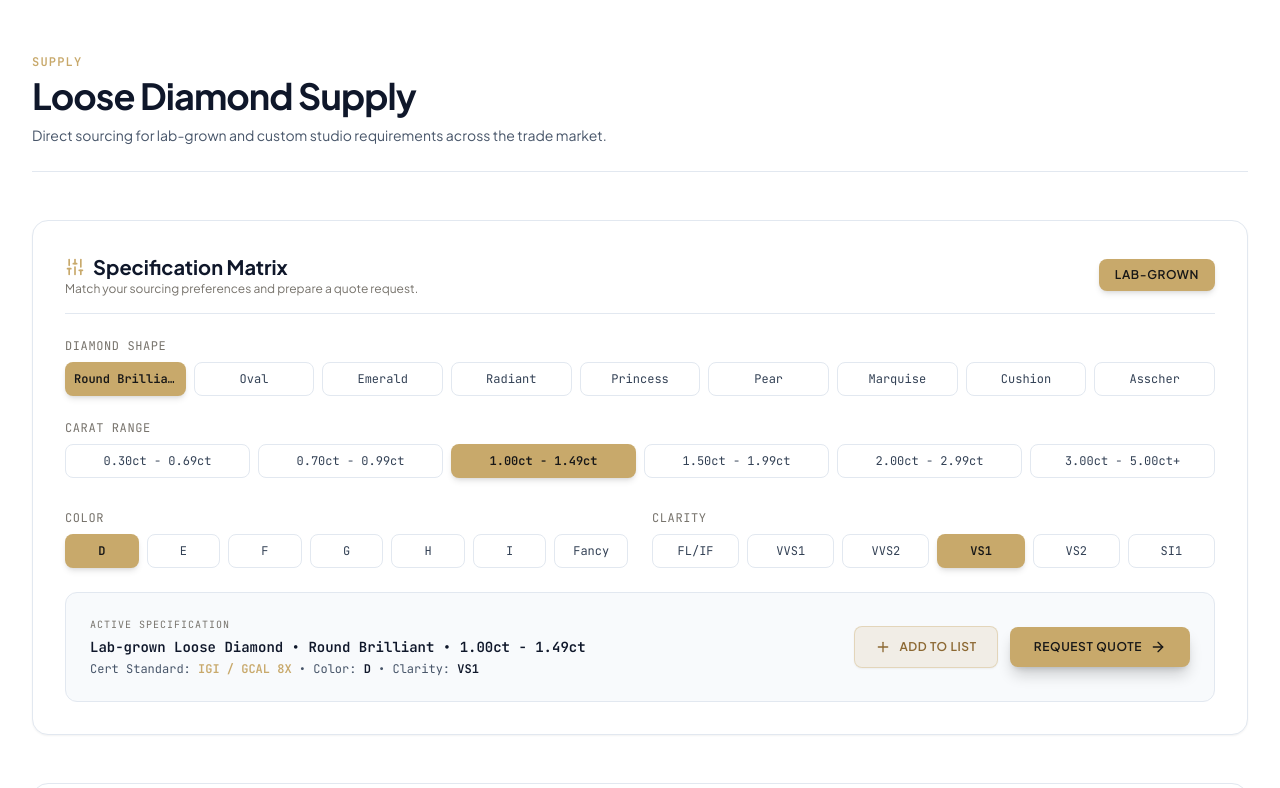
Test case: Loose Diamond Supply Matrix Component › should support adding multiple specifications and removing an item from the list
This screenshot has width=1280, height=788.
// Add 1st specification (Round D VS1)
Click the button "Add to list".
click(926, 647)  # box [854,626,998,668]
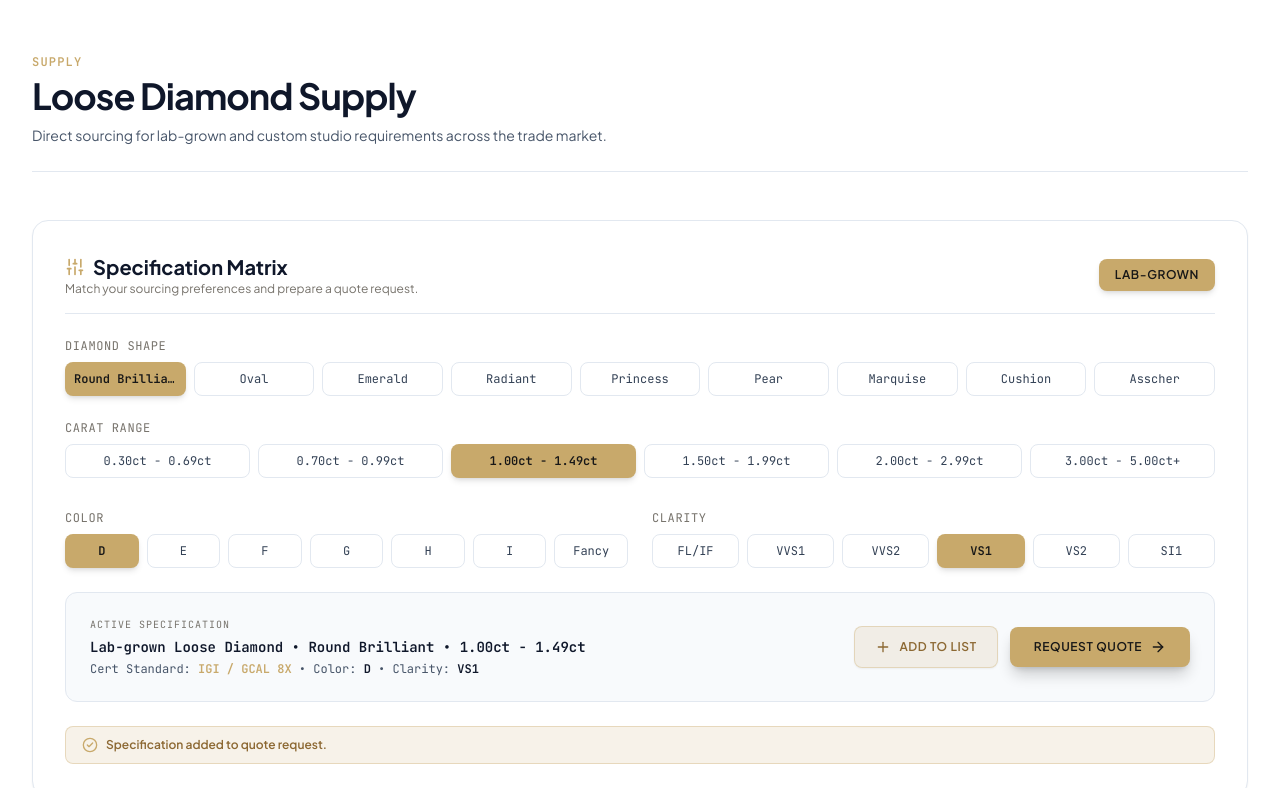
// Select 2nd specification (Emerald F VVS2)
Click the button "Emerald".
click(383, 379)  # box [322,362,443,396]
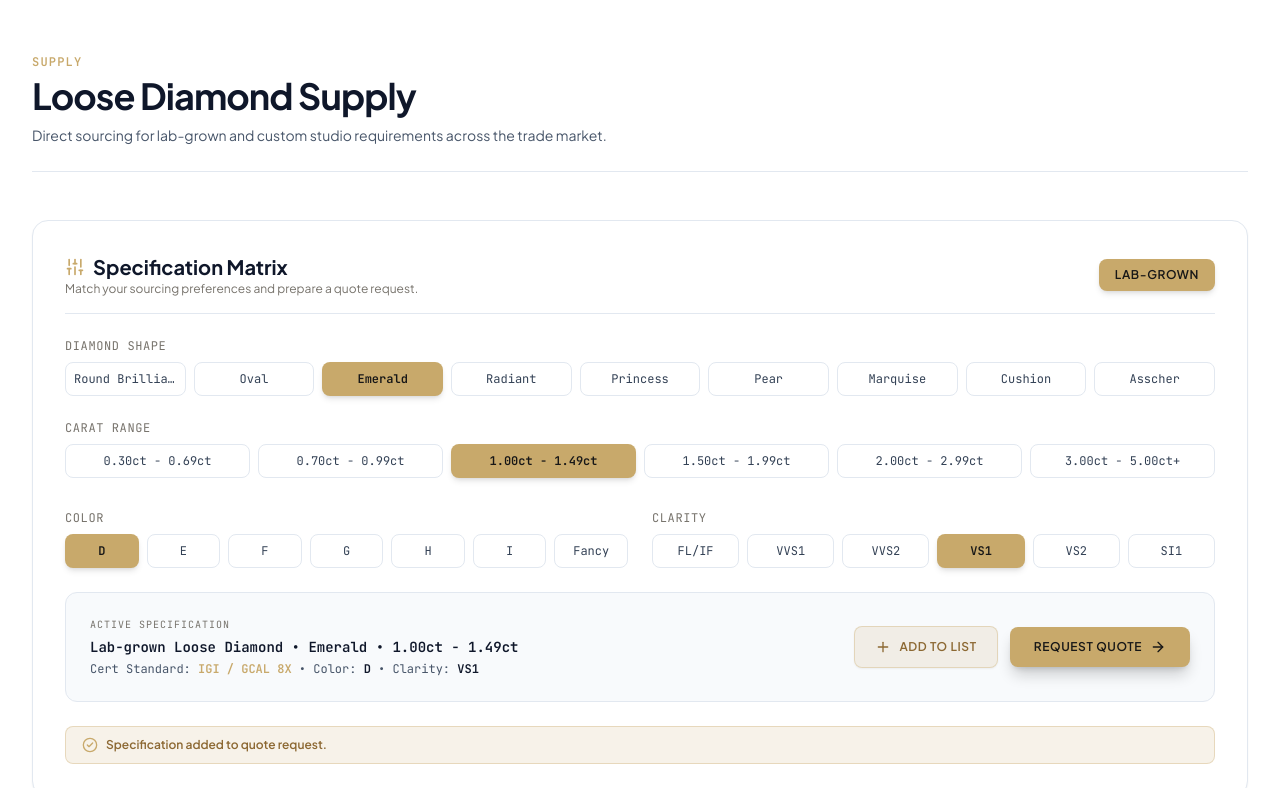
Click the button "F".
click(265, 551)  # box [228,534,302,568]
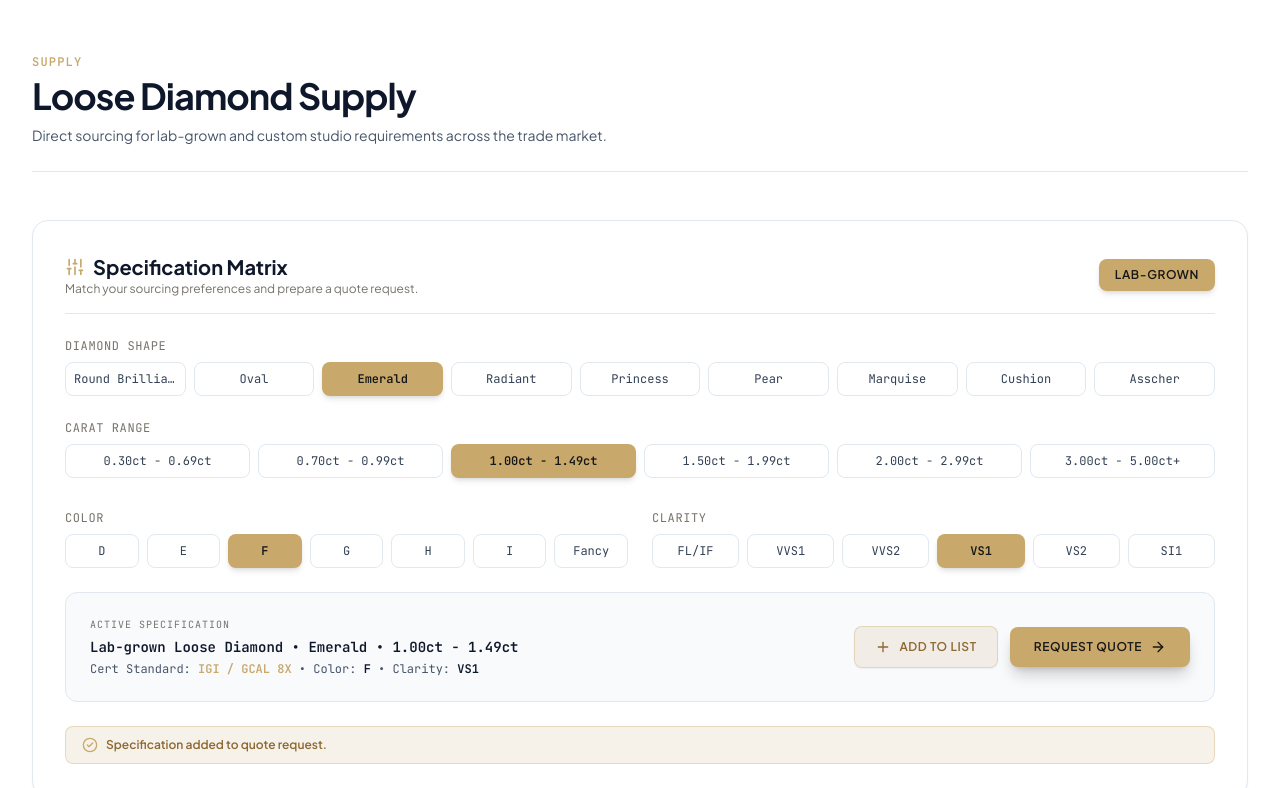
Click the button "VVS2".
click(886, 551)  # box [842,534,930,568]
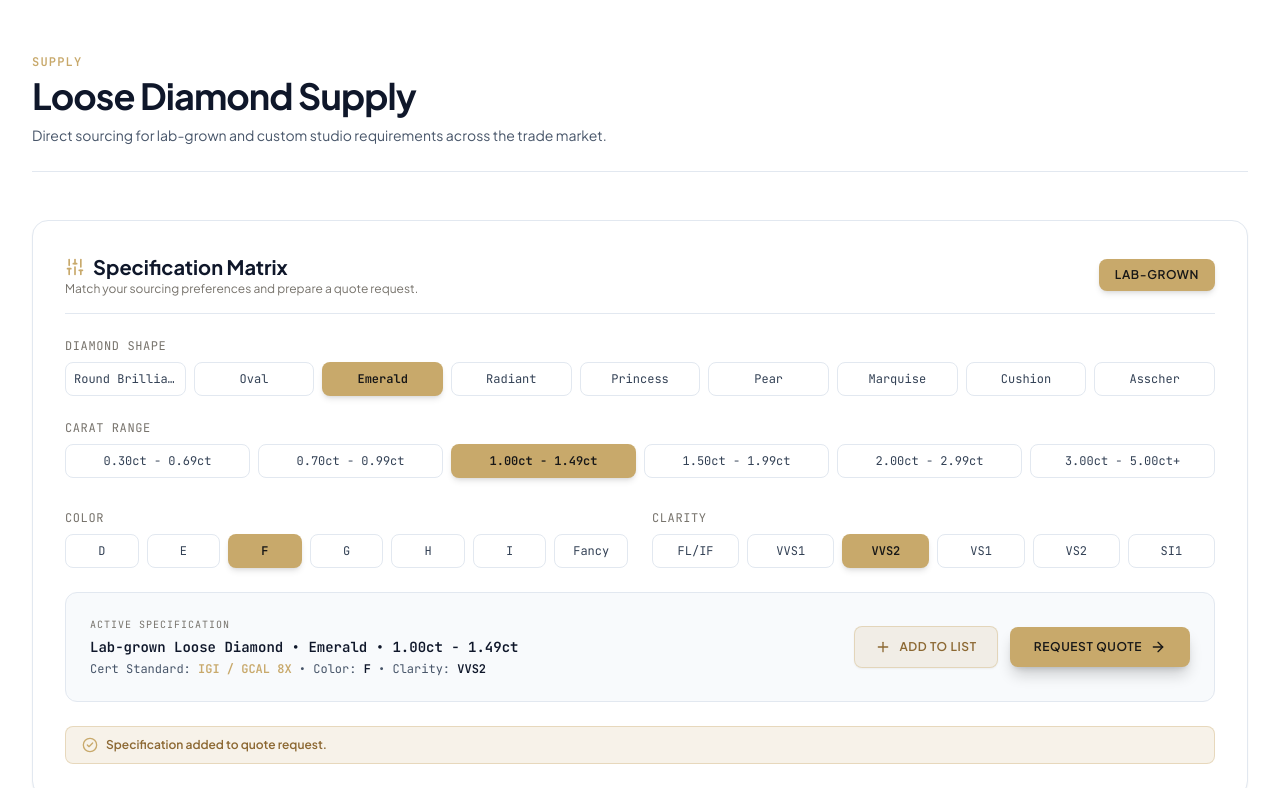
// Add 2nd specification
Click the button "Add to list".
click(926, 647)  # box [854,626,998,668]
(page scrolled)
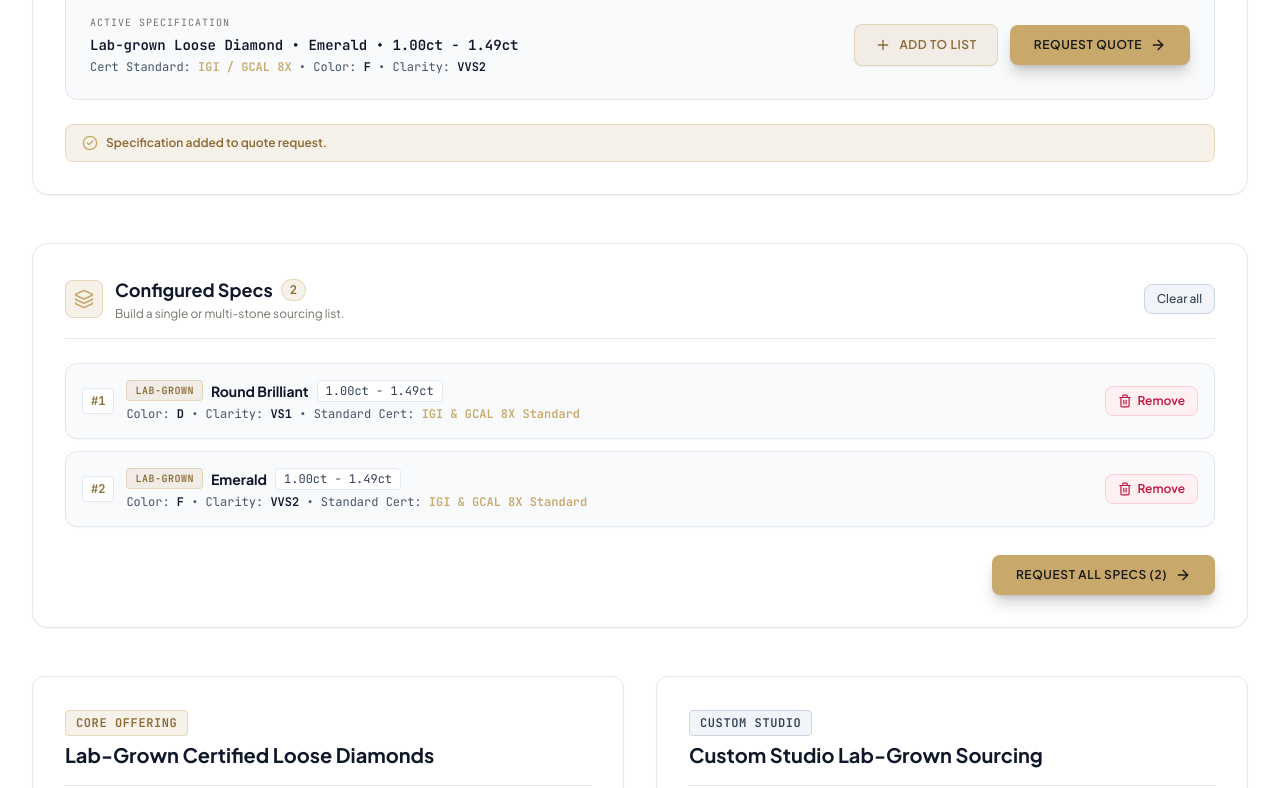
Now the text "#1" is shown, box [82,388,114,414]
Now the text "#2" is shown, box [82,476,114,502]
// Remove 1st specification
Click the 1st button "Remove".
click(1151, 401)  # box [1105,386,1198,416]
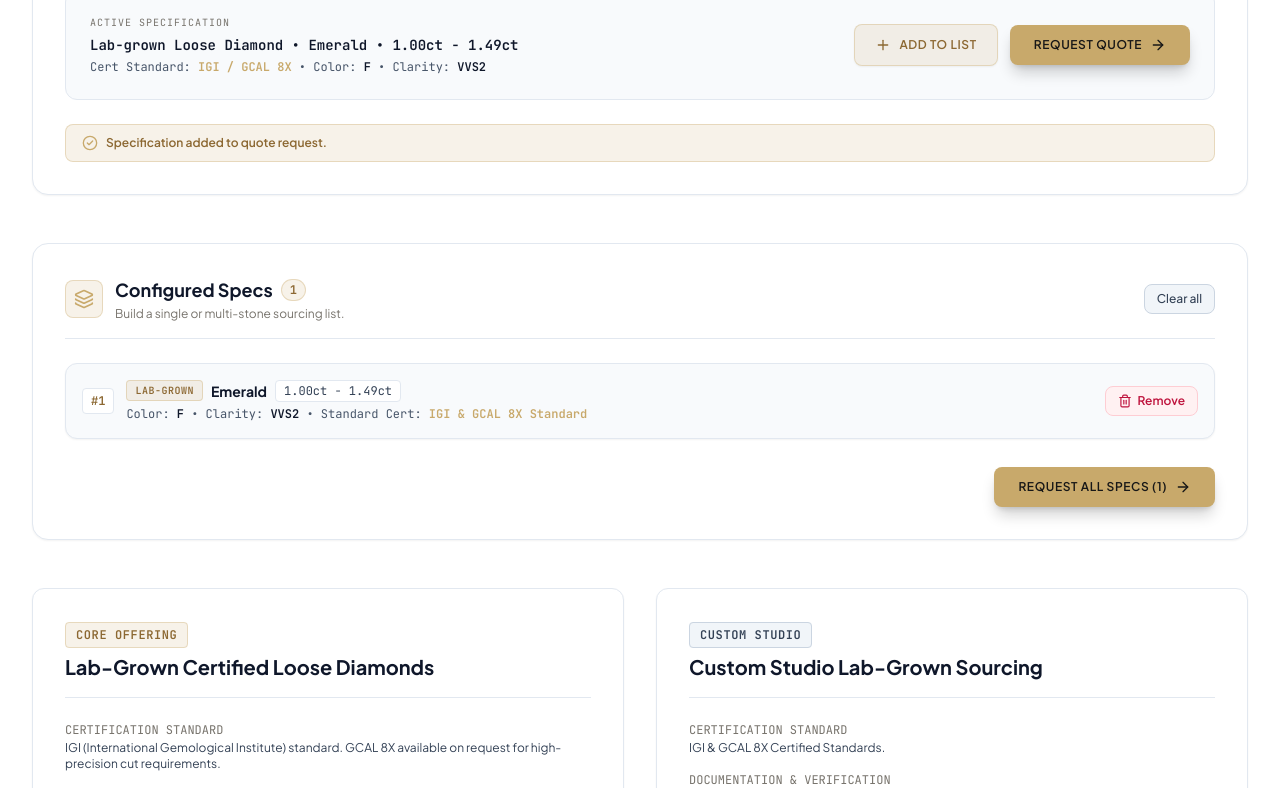
Now the number of buttons "Remove" is 1, box [1105,386,1198,416]
